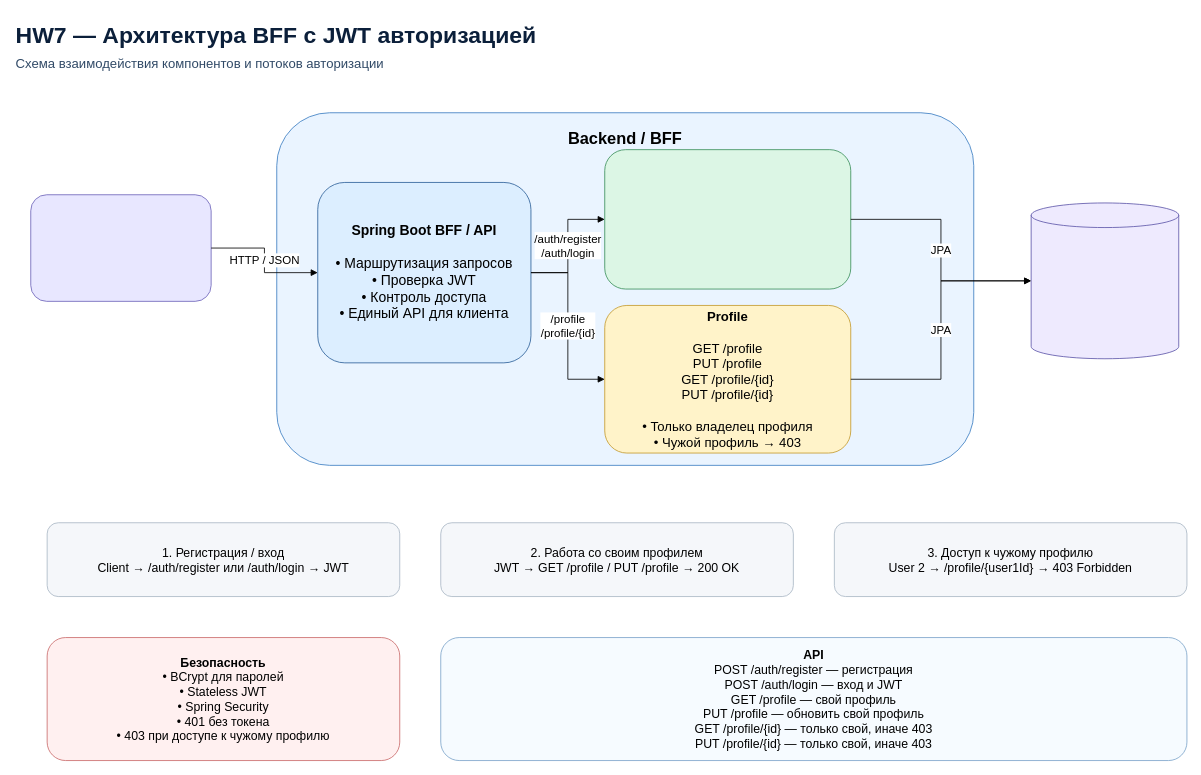
Some shapes in this 1201 by 775 pixel diagram are drawn without their labels. Each missing label, with the centre of its shape:
"Auth POST /auth/register POST /auth/login • Регистрация • BCrypt • Выпуск JWT" goes at [727,219].
"Client (Postman / Web / Mobile)" goes at [120,247].
"PostgreSQL users id username profile data password hash" goes at [1104,280].
